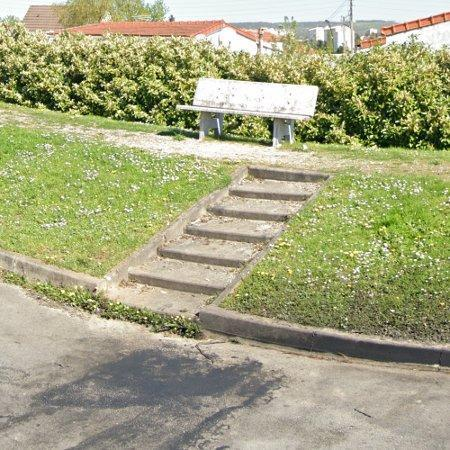stairs: (118, 167, 328, 316)
